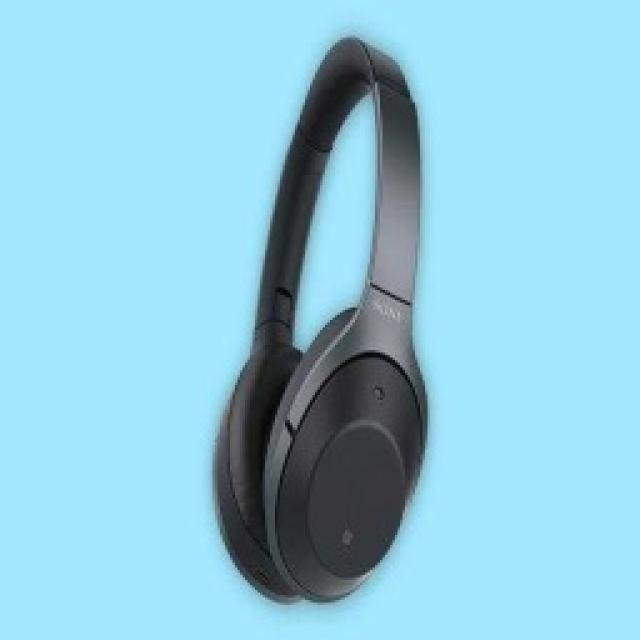headphones: (210, 32, 428, 602)
